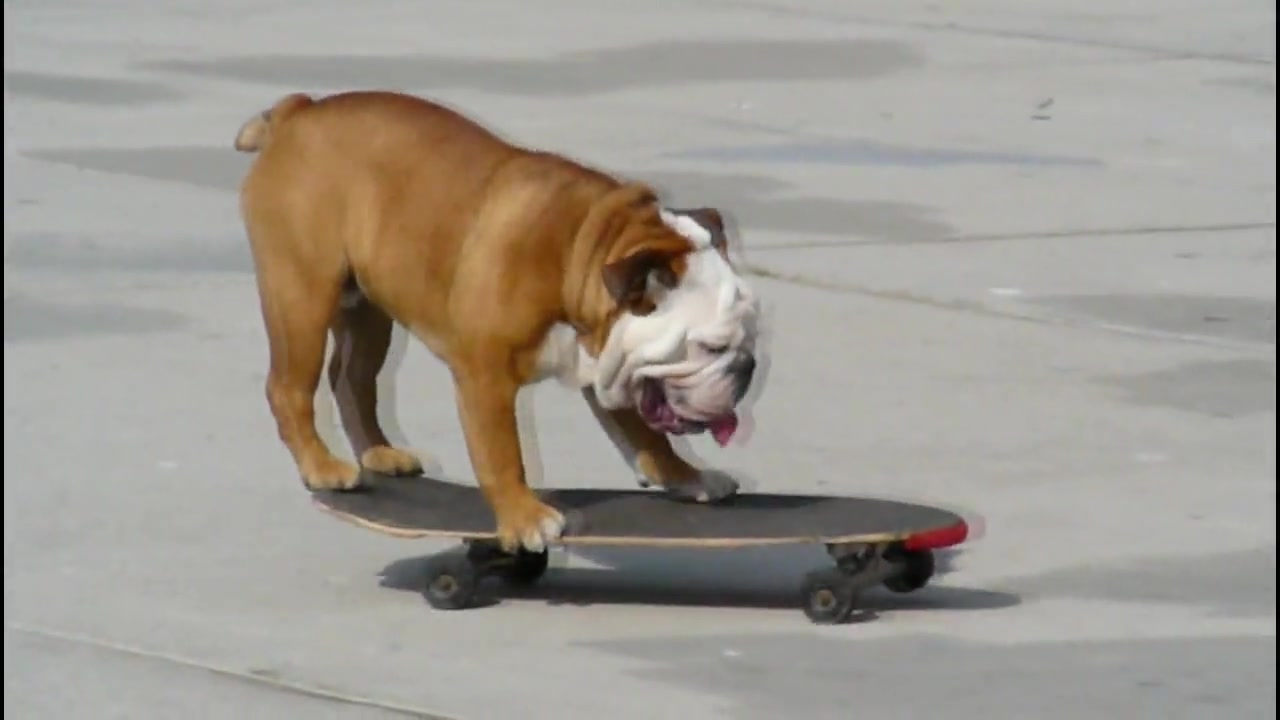dog: (233, 81, 767, 558)
